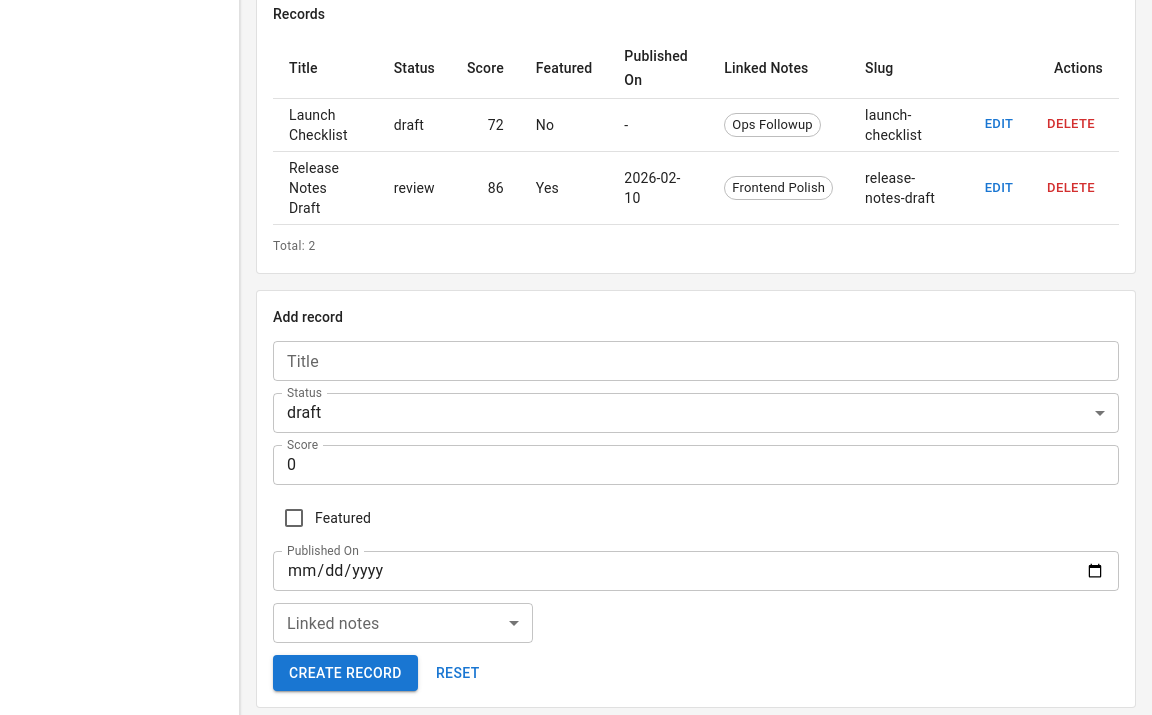
Collections CRUD validation and diagnostics › aggregated validation conflicts surface summary error payloads without breaking form flow
The image size is (1152, 715).
(page scrolled)
Type "Record with aggregated conflicts" into the field labelled "Title" at (696,361), box [273,341,1119,381]
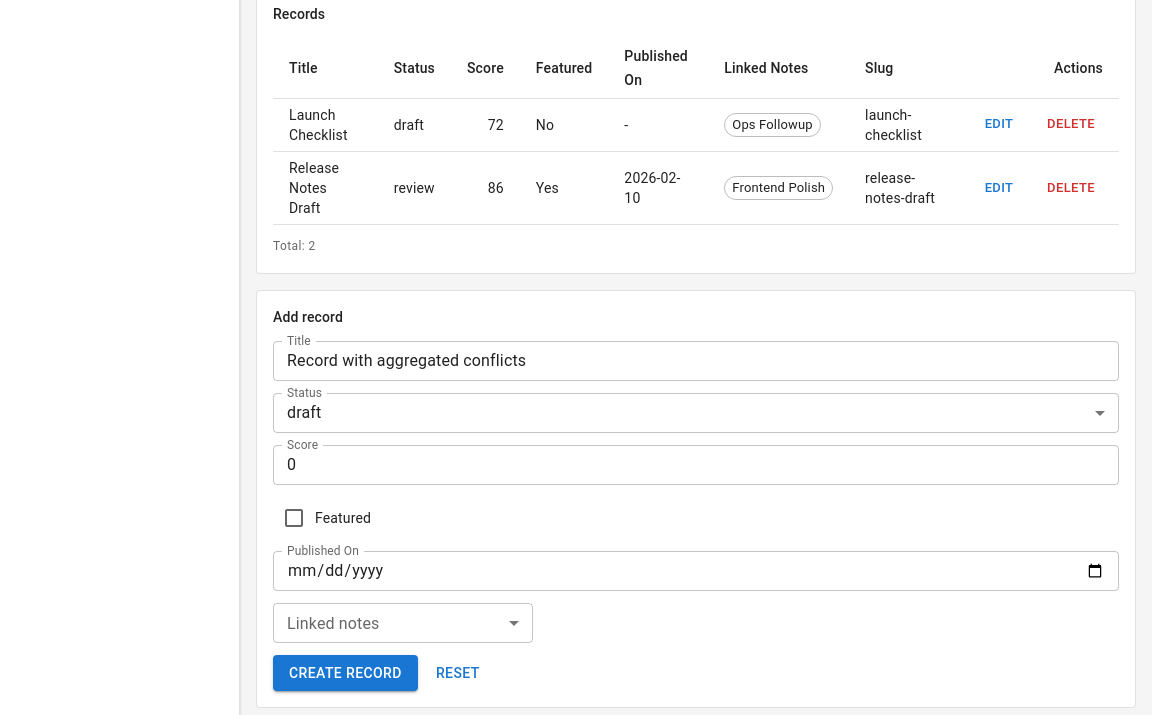
Click the button "Create record" at (345,673), box [273,655,418,691]
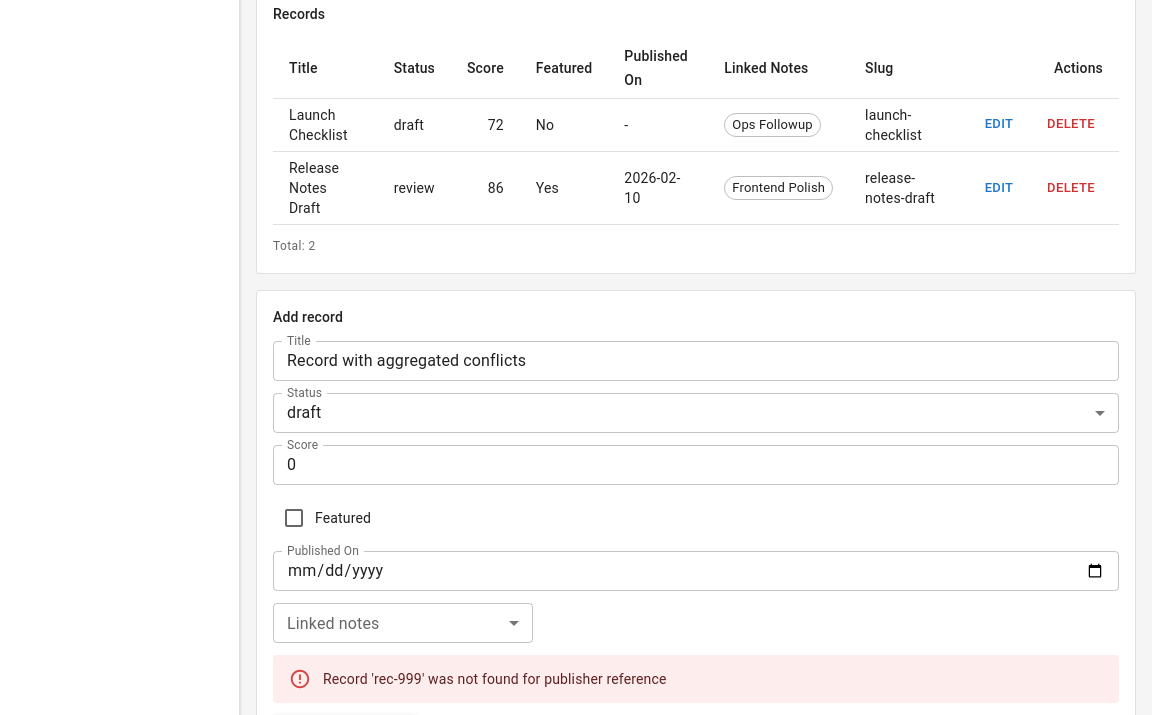
Expected: the text "Record 'rec-999' was not found for publisher reference" is shown, [323,671,666,687]
